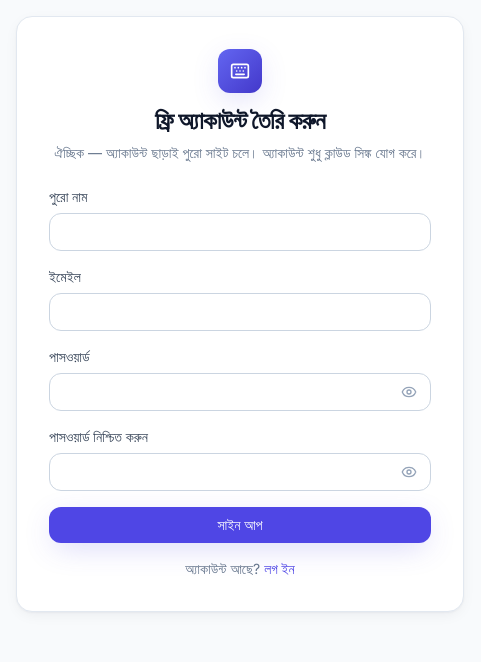
RegisterPage validation › rejects mismatched confirmation passwords
Type "Maruf" into the field labelled "পুরো নাম".
click(240, 232); type("Maruf")  # box [49, 213, 431, 251]
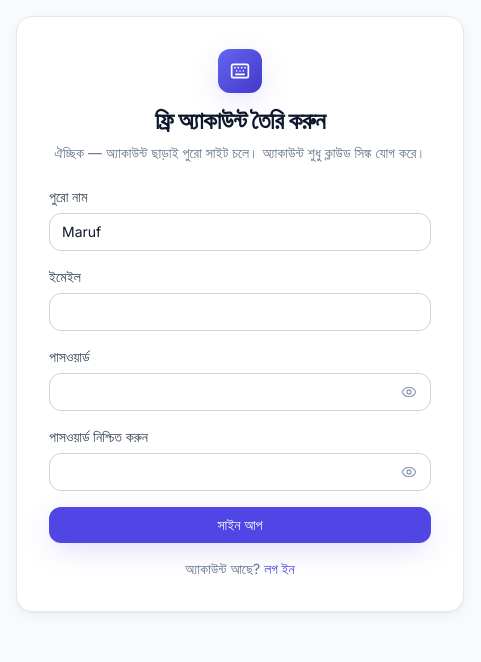
Type "a@b.com" into the field labelled "ইমেইল".
click(240, 312); type("a@b.com")  # box [49, 293, 431, 331]
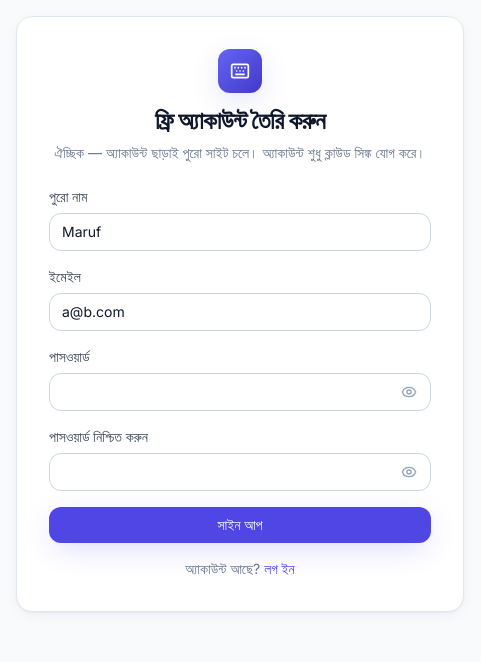
Type "longenough1" into the password field labelled "পাসওয়ার্ড".
click(240, 392); type("longenough1")  # box [49, 373, 431, 411]
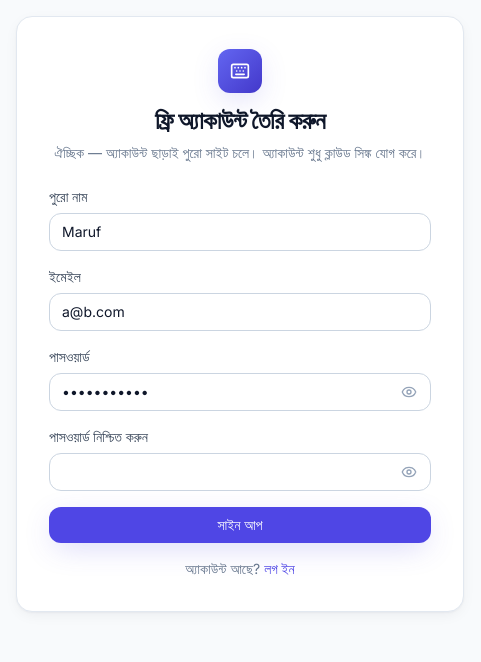
Type "different1" into the password field labelled "পাসওয়ার্ড নিশ্চিত করুন".
click(240, 472); type("different1")  # box [49, 453, 431, 491]
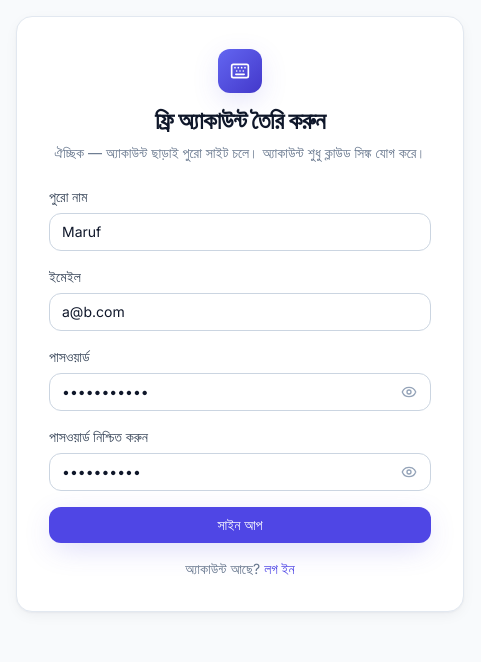
Click the button "সাইন আপ".
click(240, 525)  # box [49, 507, 431, 543]
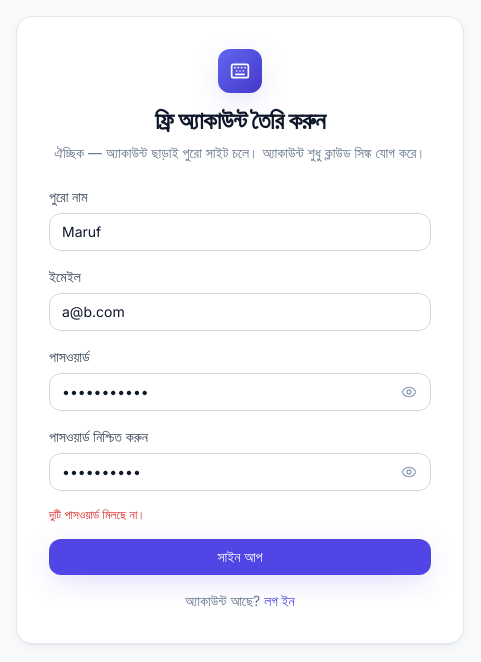
Expected: the text "দুটি পাসওয়ার্ড মিলছে না।" is shown, [49, 507, 145, 522]
